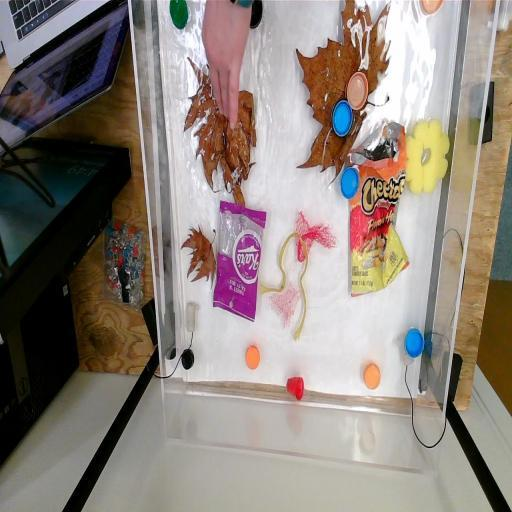Bottle Cap: (344, 64, 369, 110), (332, 98, 353, 140), (338, 161, 360, 200), (361, 358, 383, 396), (402, 324, 424, 362), (167, 0, 191, 32), (242, 342, 260, 377), (420, 0, 447, 20), (249, 0, 265, 32), (180, 346, 196, 370)
Cone Cap: (282, 370, 306, 411)
Leaf: (295, 0, 392, 180), (186, 72, 258, 204), (179, 222, 218, 295)
Netting: (292, 206, 340, 272), (266, 280, 304, 332)
Plastic Bag: (345, 118, 412, 307), (212, 196, 268, 328)
Plastic Strand: (258, 228, 311, 344)
Sponge: (404, 110, 454, 204)
